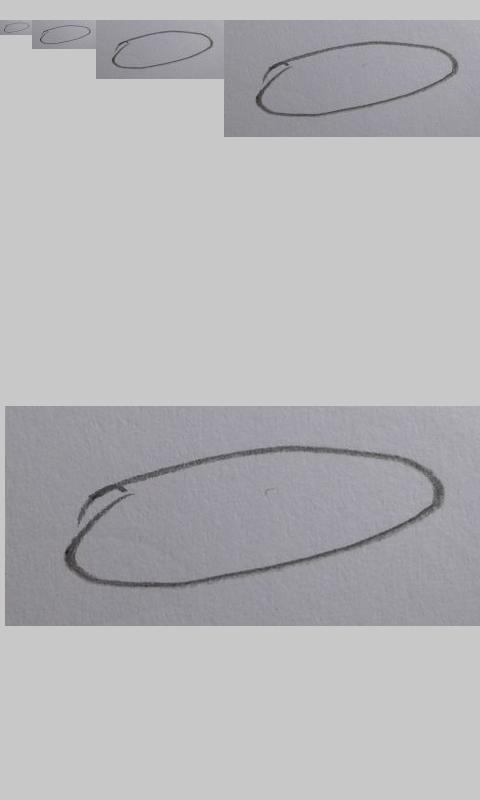chip: (65, 445, 445, 589), (256, 41, 460, 117), (111, 30, 214, 70), (39, 24, 92, 45), (3, 22, 30, 33)
